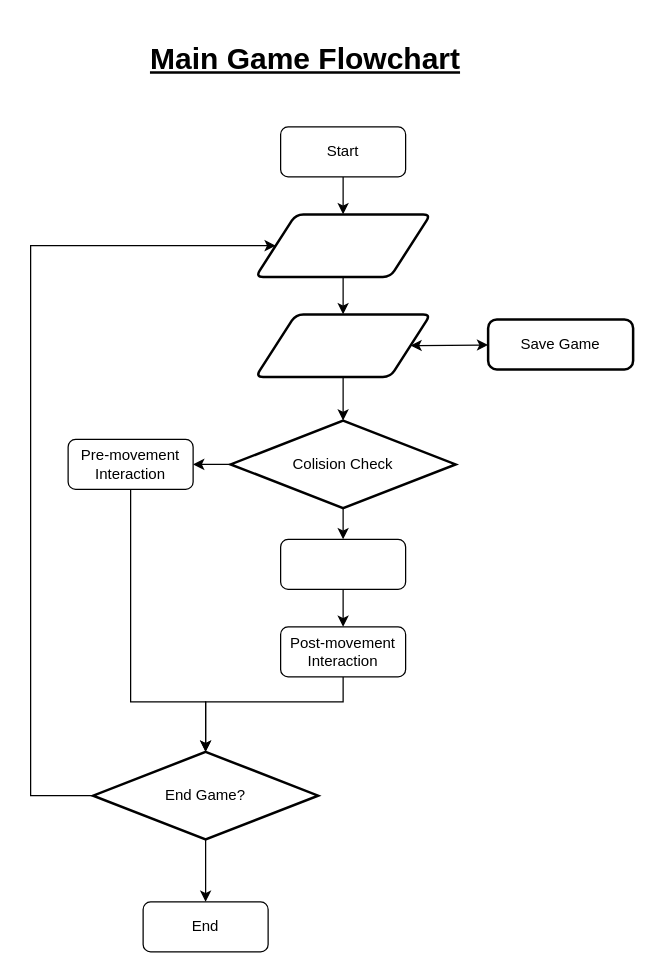
Image size: 656x974. Some labels were removed from this diagram. Each missing label, with the centre of its shape:
"Control Input" belongs at (342,345).
"Display" belongs at (342,245).
"Move" belongs at (342,563).
